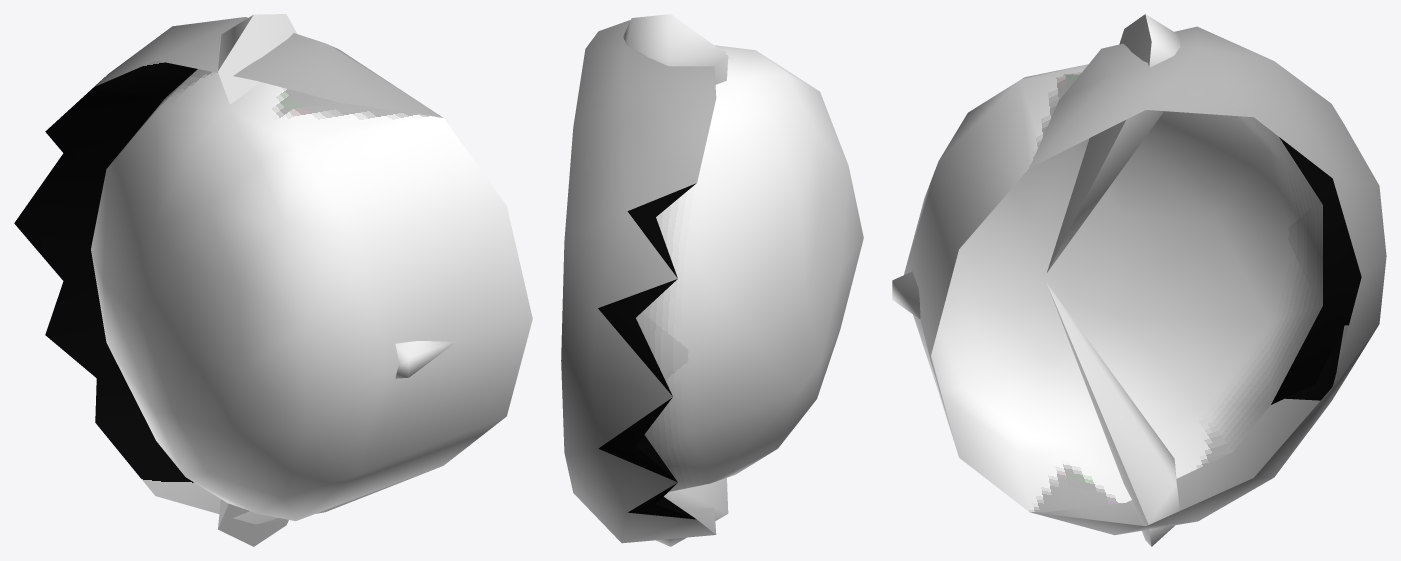
Rendered from boy14b.dae.
3 views of the same model, side by side, from view 1: azimuth 30°, elevation 25°; view 2: azimuth 150°, elevation 25°; view 3: azimuth 270°, elevation 25° (orthographic).
Visible parts, largest first — view 1: boy14b; view 2: boy14b; view 3: boy14b.
Part boxes in pixels (x1,y1,x2,y2): boy14b: (14, 14, 532, 546); boy14b: (561, 14, 863, 546); boy14b: (892, 14, 1386, 546).
Size of the model in its own units: 15.5 by 26.71 by 22.74.
3 materials, 1 textured.
